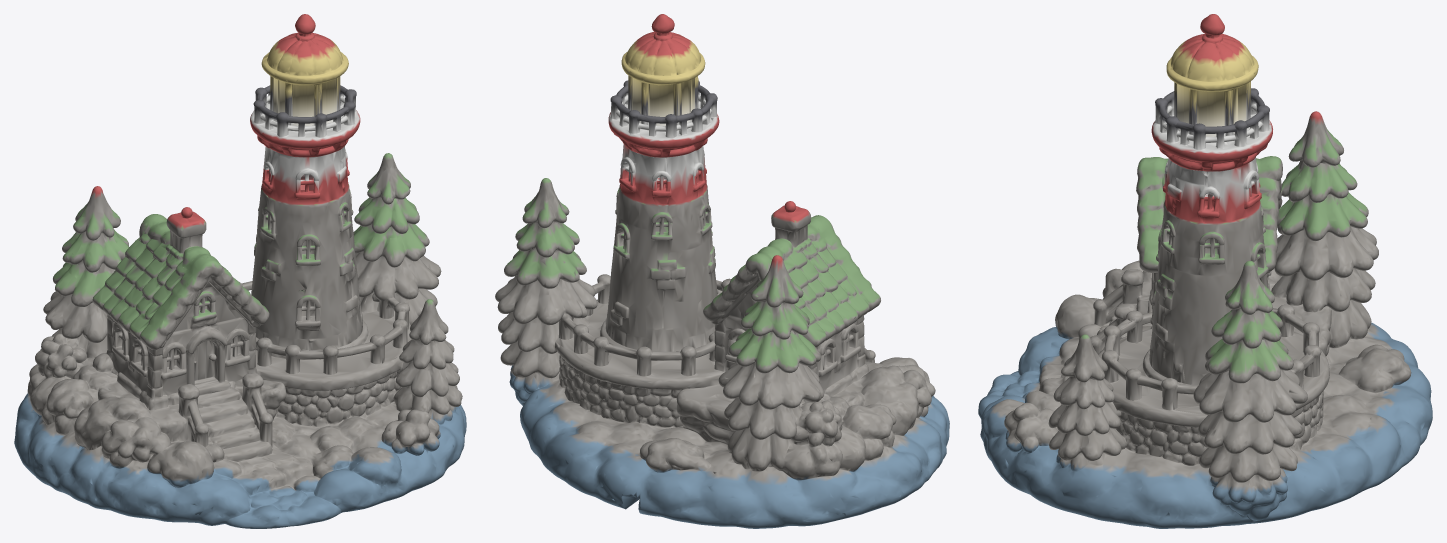
File: scan-sample.glb
3 renders of one model, left to right at view 1: azimuth 30°, elevation 25°; view 2: azimuth 150°, elevation 25°; view 3: azimuth 270°, elevation 25°, orthographic. The views are drawn at different scales.
Visible parts, largest first — view 1: geometry_0; view 2: geometry_0; view 3: geometry_0.
Part boxes in pixels (x1,y1,x2,y2): geometry_0: (14,14,466,528); geometry_0: (495,14,949,528); geometry_0: (978,14,1432,528).
Size of the model in its own units: 1.3 by 1.24 by 1.14.
